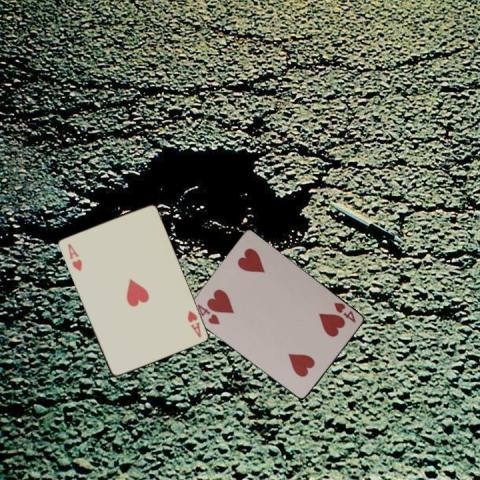4h: (193, 301, 221, 326), (330, 299, 356, 324)
Ah: (184, 307, 203, 339), (65, 240, 83, 273)
